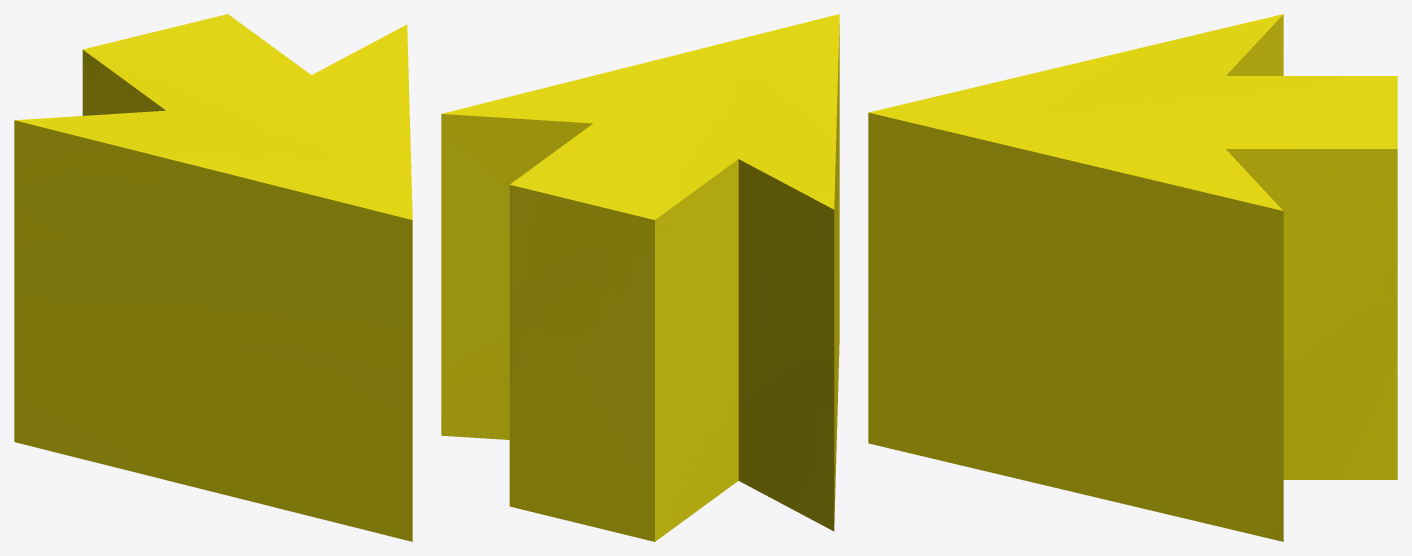
The model's file is arrow.obj.
3 views of the same model, side by side, from view 1: azimuth 30°, elevation 25°; view 2: azimuth 150°, elevation 25°; view 3: azimuth 270°, elevation 25° (orthographic). The views are drawn at different scales.
Visible parts, largest first — view 1: Cube; view 2: Cube; view 3: Cube.
Boxes of the visible parts, <box> form: Cube: <box>14,14,412,541</box>; Cube: <box>441,14,839,541</box>; Cube: <box>868,14,1397,541</box>.
Size of the model in its own units: 0.7596 by 0.5944 by 0.8619.
1 material, 1 textured.
